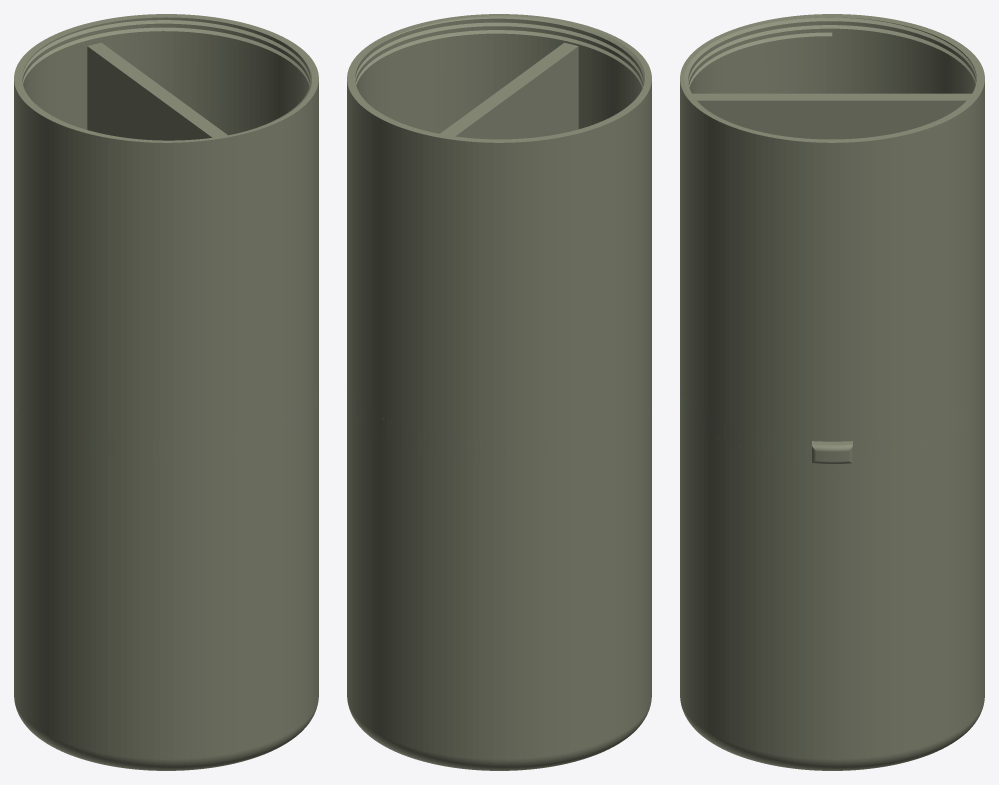
Rendered from cereal_container_opt.glb.
3 views of the same model, side by side, from view 1: azimuth 30°, elevation 25°; view 2: azimuth 150°, elevation 25°; view 3: azimuth 270°, elevation 25° (orthographic).
Parts seen in each view (by area): view 1: cereal_container (1); view 2: cereal_container (1); view 3: cereal_container (1).
Part boxes in pixels (x1=…): cereal_container (1): x1=14, y1=14, x2=318, y2=770; cereal_container (1): x1=347, y1=14, x2=651, y2=770; cereal_container (1): x1=680, y1=14, x2=984, y2=770.
Size of the model in its own units: 0.6622 by 1.46 by 0.6343.
